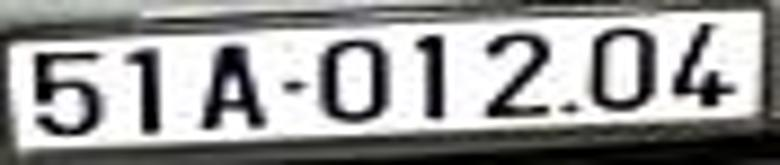-: (278, 75, 310, 97)
.: (558, 94, 580, 120)
0: (315, 35, 393, 122), (589, 24, 660, 113)
1: (121, 46, 167, 133), (412, 33, 446, 123)
2: (480, 29, 552, 120)
4: (671, 25, 740, 108)
5: (32, 48, 105, 137)
A: (199, 42, 269, 133)
